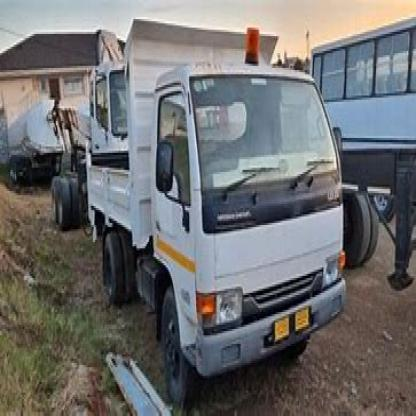dump_truck: (69, 11, 347, 397)
